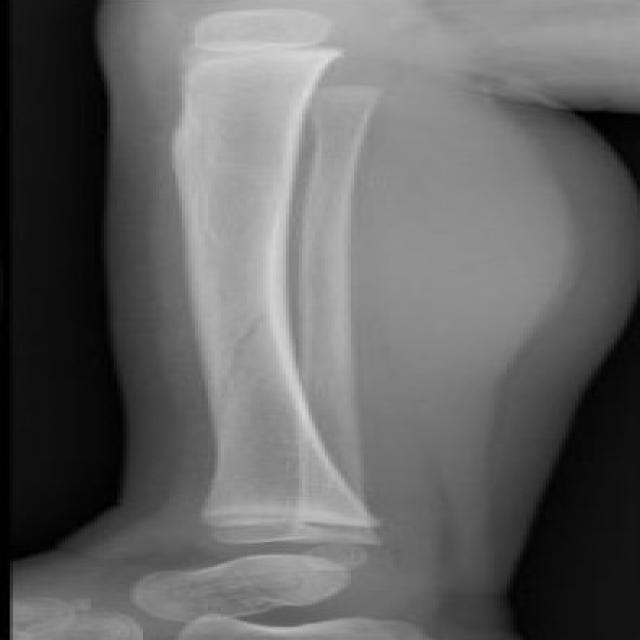Impacted: (175, 302, 329, 443)
